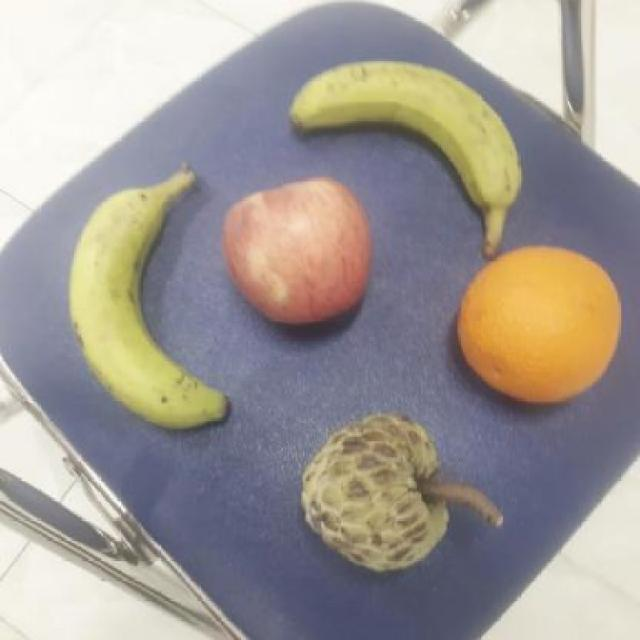apple: (218, 172, 374, 330)
banana: (63, 160, 232, 431), (285, 54, 520, 218)
oren: (454, 242, 623, 406)
sugar apple: (297, 414, 448, 577)
